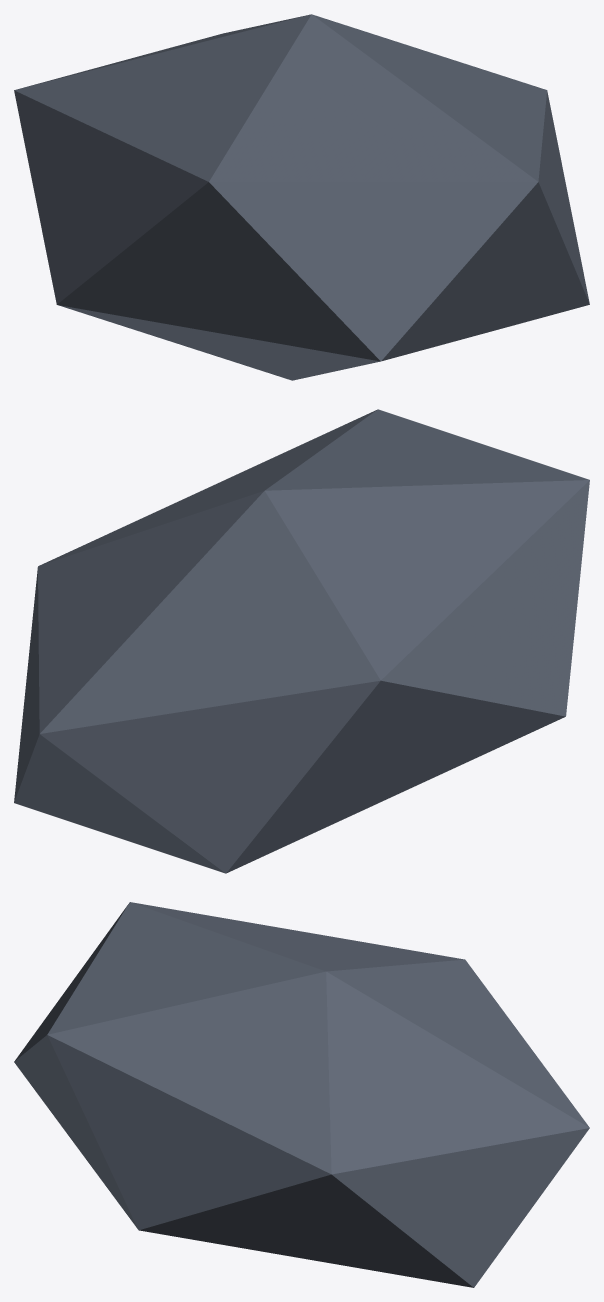
File: EXT_SouthCliff_04_Shard_1.glb
3 views of the same model, one above another, from view 1: azimuth 30°, elevation 25°; view 2: azimuth 150°, elevation 25°; view 3: azimuth 270°, elevation 25° (orthographic). The views are drawn at different scales.
Parts seen in each view (by area): view 1: EXT_SouthCliff_04_Shard_1; view 2: EXT_SouthCliff_04_Shard_1; view 3: EXT_SouthCliff_04_Shard_1.
Boxes of the visible parts, left/top/right/bottom form: EXT_SouthCliff_04_Shard_1: left=14, top=14, right=589, bottom=380; EXT_SouthCliff_04_Shard_1: left=14, top=409, right=589, bottom=873; EXT_SouthCliff_04_Shard_1: left=14, top=902, right=589, bottom=1287.
Bounding box in the file's own units: 1.36 × 0.8191 × 1.61.
